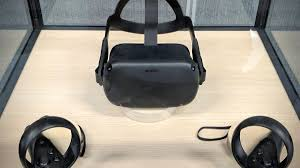oculus: (101, 36, 209, 112)
